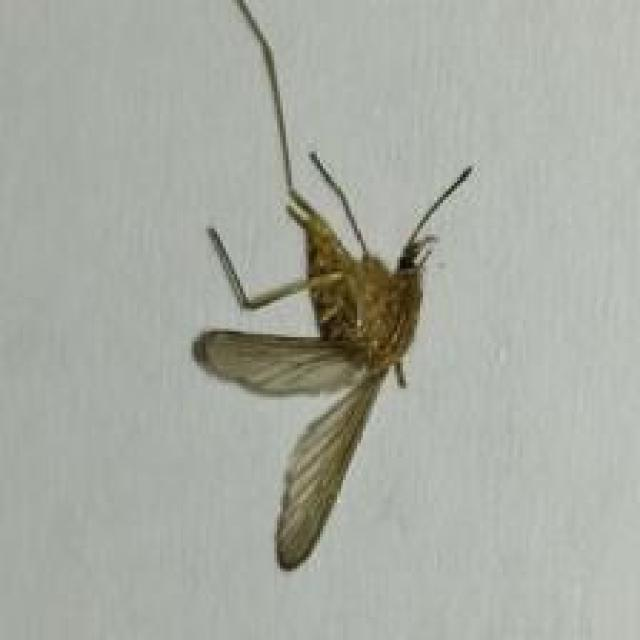Culex: (187, 0, 475, 571)
